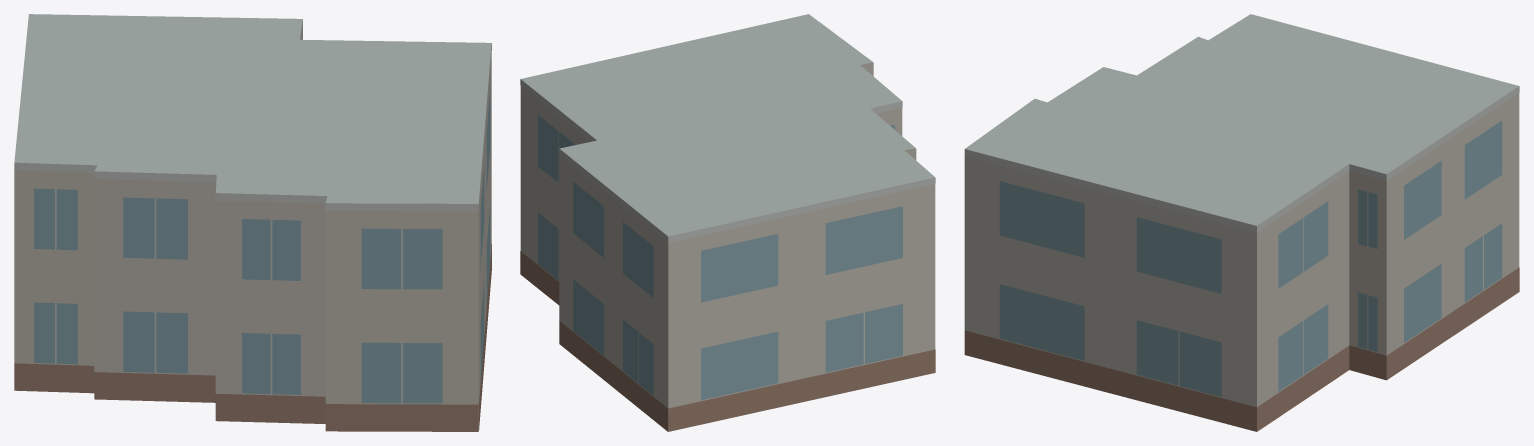
The model's file is survey-upis-32491331.glb.
3 renders of one model, left to right at view 1: azimuth 30°, elevation 25°; view 2: azimuth 150°, elevation 25°; view 3: azimuth 270°, elevation 25°, orthographic. The views are drawn at different scales.
Visible parts, largest first — view 1: survey-upis-32491331.tmp; view 2: survey-upis-32491331.tmp; view 3: survey-upis-32491331.tmp.
Part boxes in pixels (x1,y1,x2,y2): survey-upis-32491331.tmp: [14, 14, 491, 431]; survey-upis-32491331.tmp: [520, 14, 935, 431]; survey-upis-32491331.tmp: [964, 14, 1519, 431].
Size of the model in its own units: 16.34 by 7.4 by 18.07.
